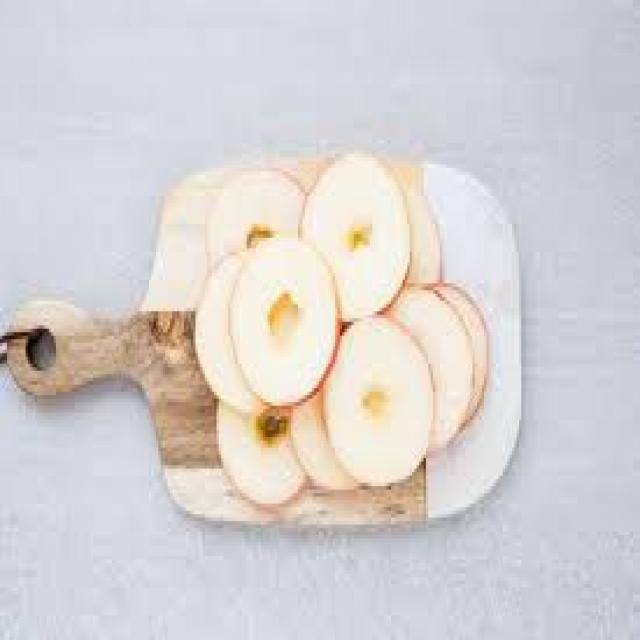Apple: (230, 237, 341, 404), (328, 320, 433, 488), (304, 151, 408, 315), (399, 283, 472, 449), (195, 254, 260, 421), (213, 394, 310, 505), (201, 169, 312, 254), (293, 396, 355, 505), (404, 190, 450, 286)
